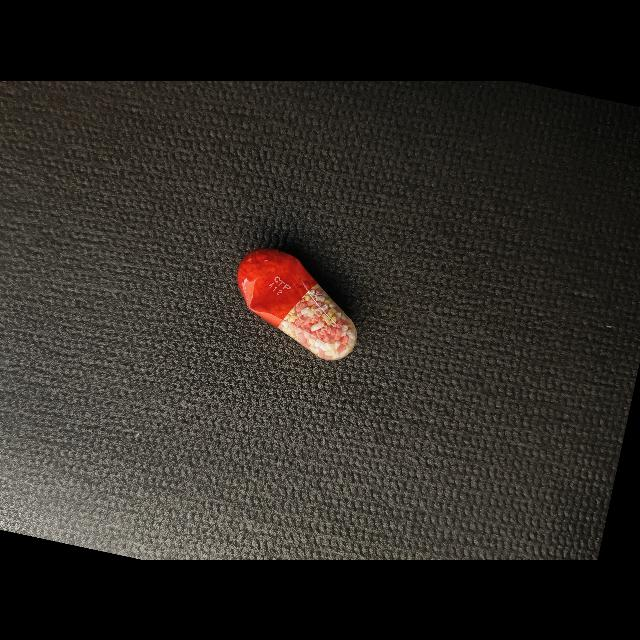Defective Capsule: (237, 248, 357, 360)
